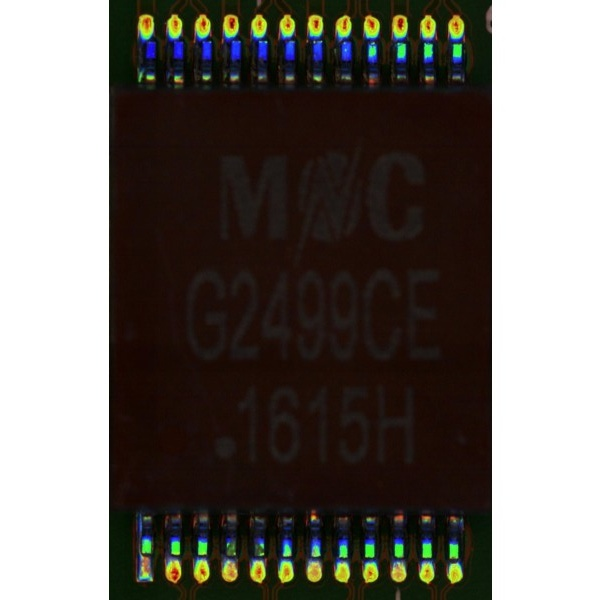Bad_podu: (140, 546, 149, 565)
